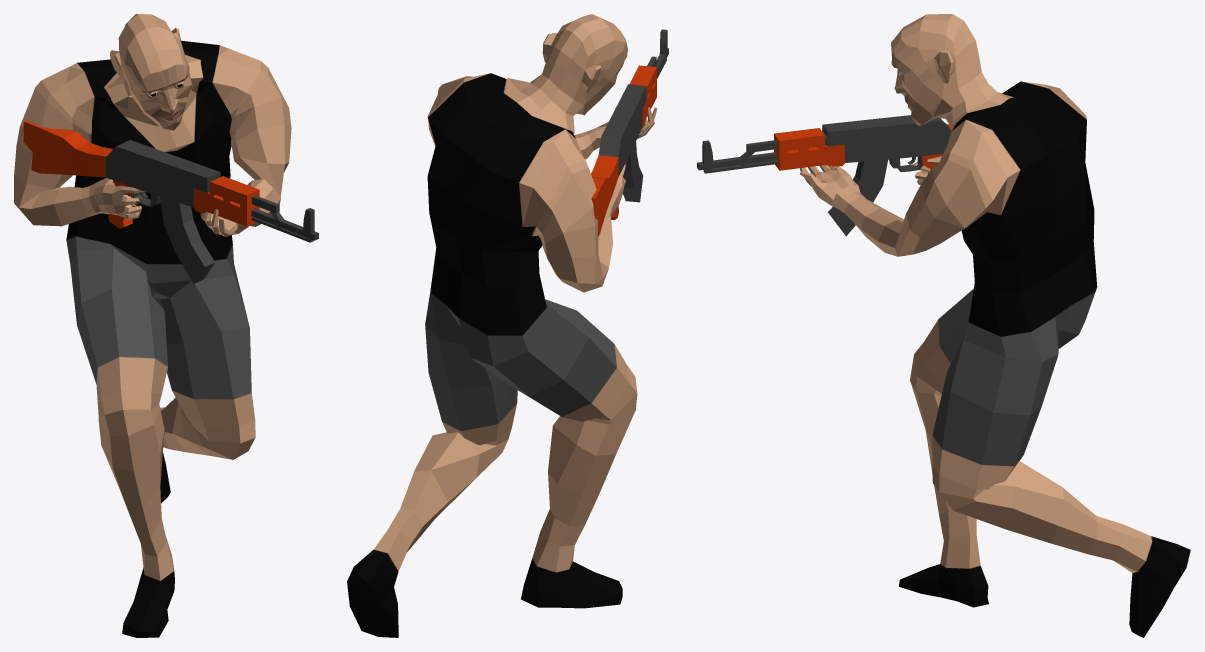
File: PlayerWalk(27).obj
3 views of the same model, side by side, from view 1: azimuth 30°, elevation 25°; view 2: azimuth 150°, elevation 25°; view 3: azimuth 270°, elevation 25° (orthographic). The views are drawn at different scales.
Visible parts, largest first — view 1: Plane002, Object001; view 2: Plane002, Object001; view 3: Plane002, Object001.
Part boxes in pixels (x1,y1,x2,y2): Plane002: [14, 14, 291, 637]; Object001: [23, 120, 318, 283]; Plane002: [347, 14, 657, 637]; Object001: [591, 29, 668, 236]; Plane002: [800, 14, 1190, 637]; Object001: [697, 115, 952, 236].
Size of the model in its own units: 590 by 1559 by 1204.
